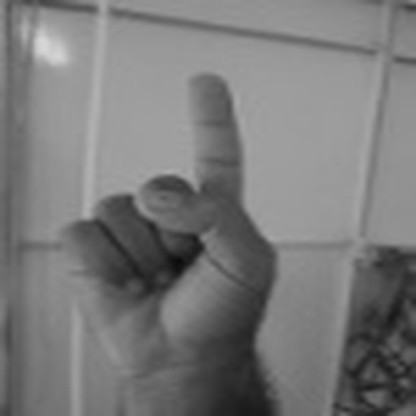d: (59, 61, 286, 357)
